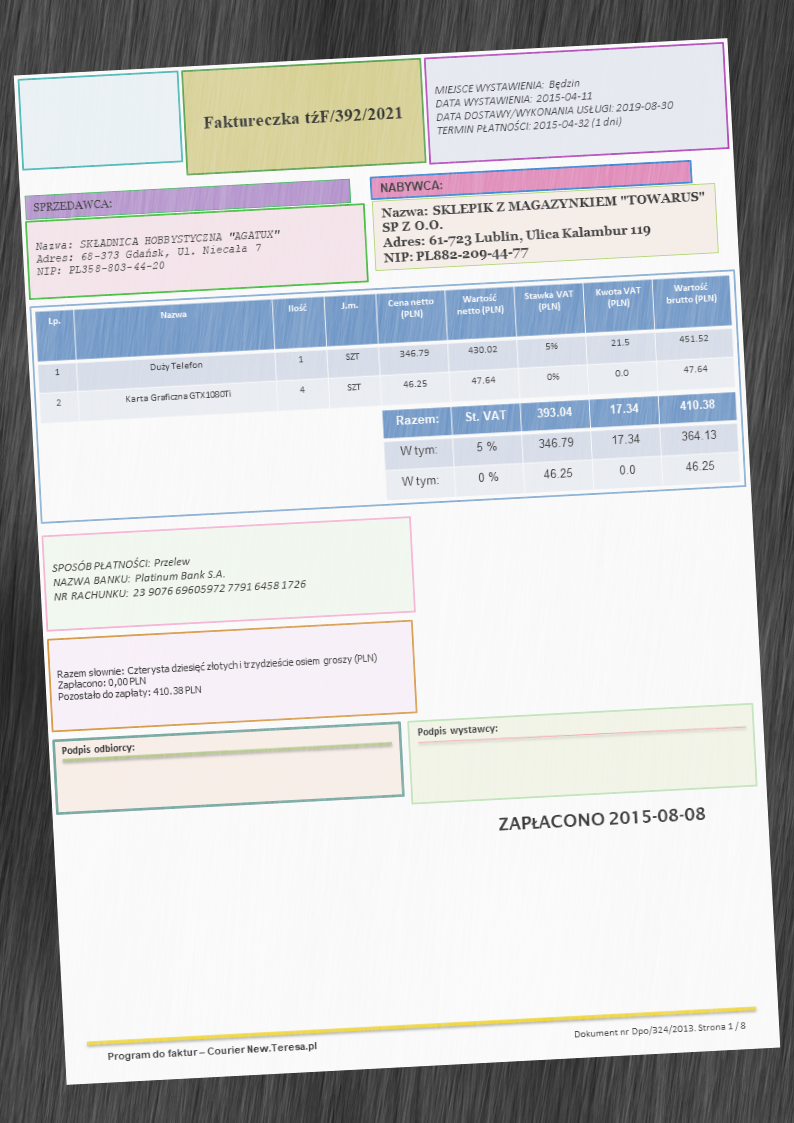Table: (34, 273, 736, 425), (381, 390, 741, 501)
TextBox: (378, 189, 710, 266), (56, 650, 380, 703), (432, 72, 676, 138), (49, 547, 308, 603), (33, 226, 282, 278), (497, 804, 706, 832), (104, 1038, 319, 1065), (201, 103, 404, 131), (572, 1018, 748, 1042), (30, 196, 115, 215), (415, 721, 499, 740), (59, 740, 137, 758), (378, 176, 444, 195)
